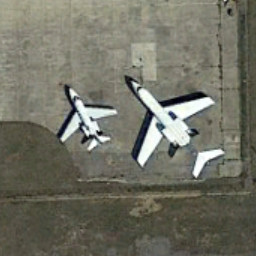Airplane: (124, 69, 236, 189), (47, 82, 120, 164)
